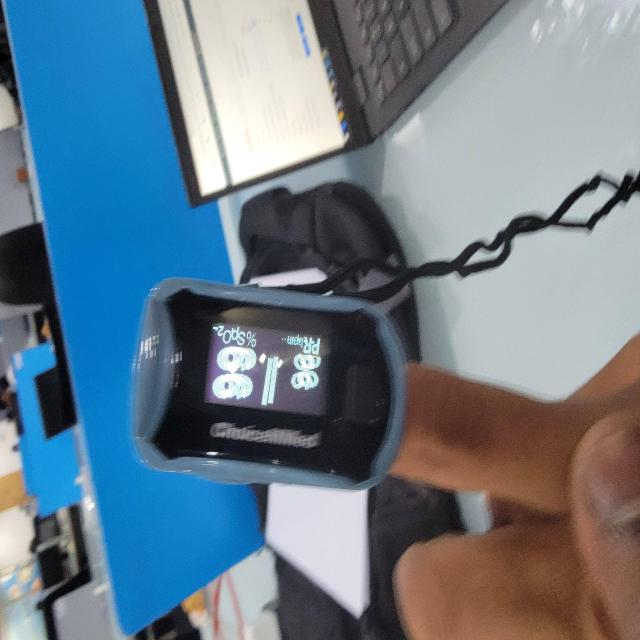spo2: (128, 278, 408, 493)
